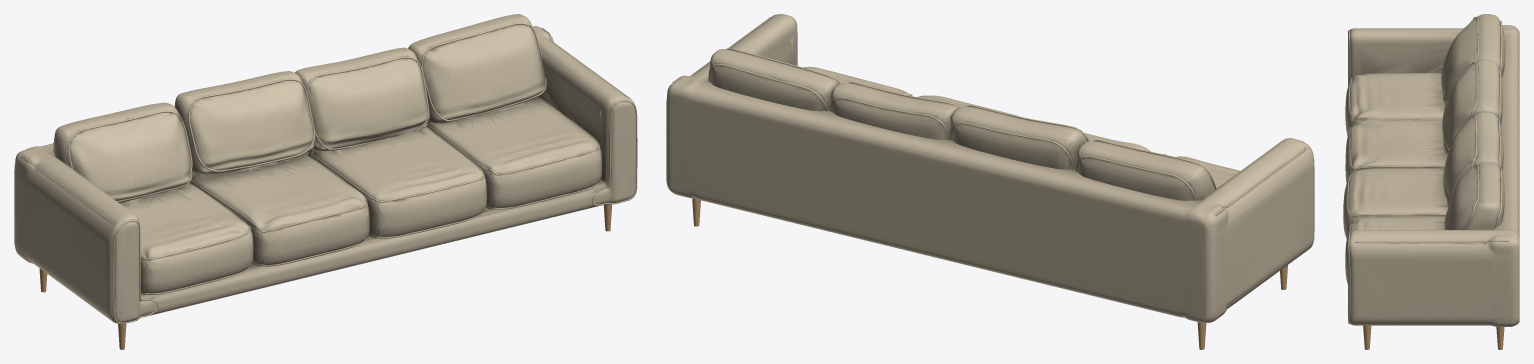
File: pana-arena.gltf
3 views of the same model, side by side, from view 1: azimuth 30°, elevation 25°; view 2: azimuth 150°, elevation 25°; view 3: azimuth 270°, elevation 25° (orthographic). The views are drawn at different scales.
Visible parts, largest first — view 1: tela_ar, madera_ar; view 2: tela_ar, madera_ar; view 3: tela_ar, madera_ar.
Boxes of the visible parts, x1,y1,x2,y2 form: tela_ar: [14, 14, 637, 323]; madera_ar: [39, 203, 612, 349]; tela_ar: [666, 14, 1314, 322]; madera_ar: [692, 198, 1287, 349]; tela_ar: [1343, 14, 1519, 326]; madera_ar: [1363, 325, 1504, 349].
Bounding box in the file's own units: 2.7 × 0.8297 × 0.9224.
Materials: 2 (2 with a texture image).
